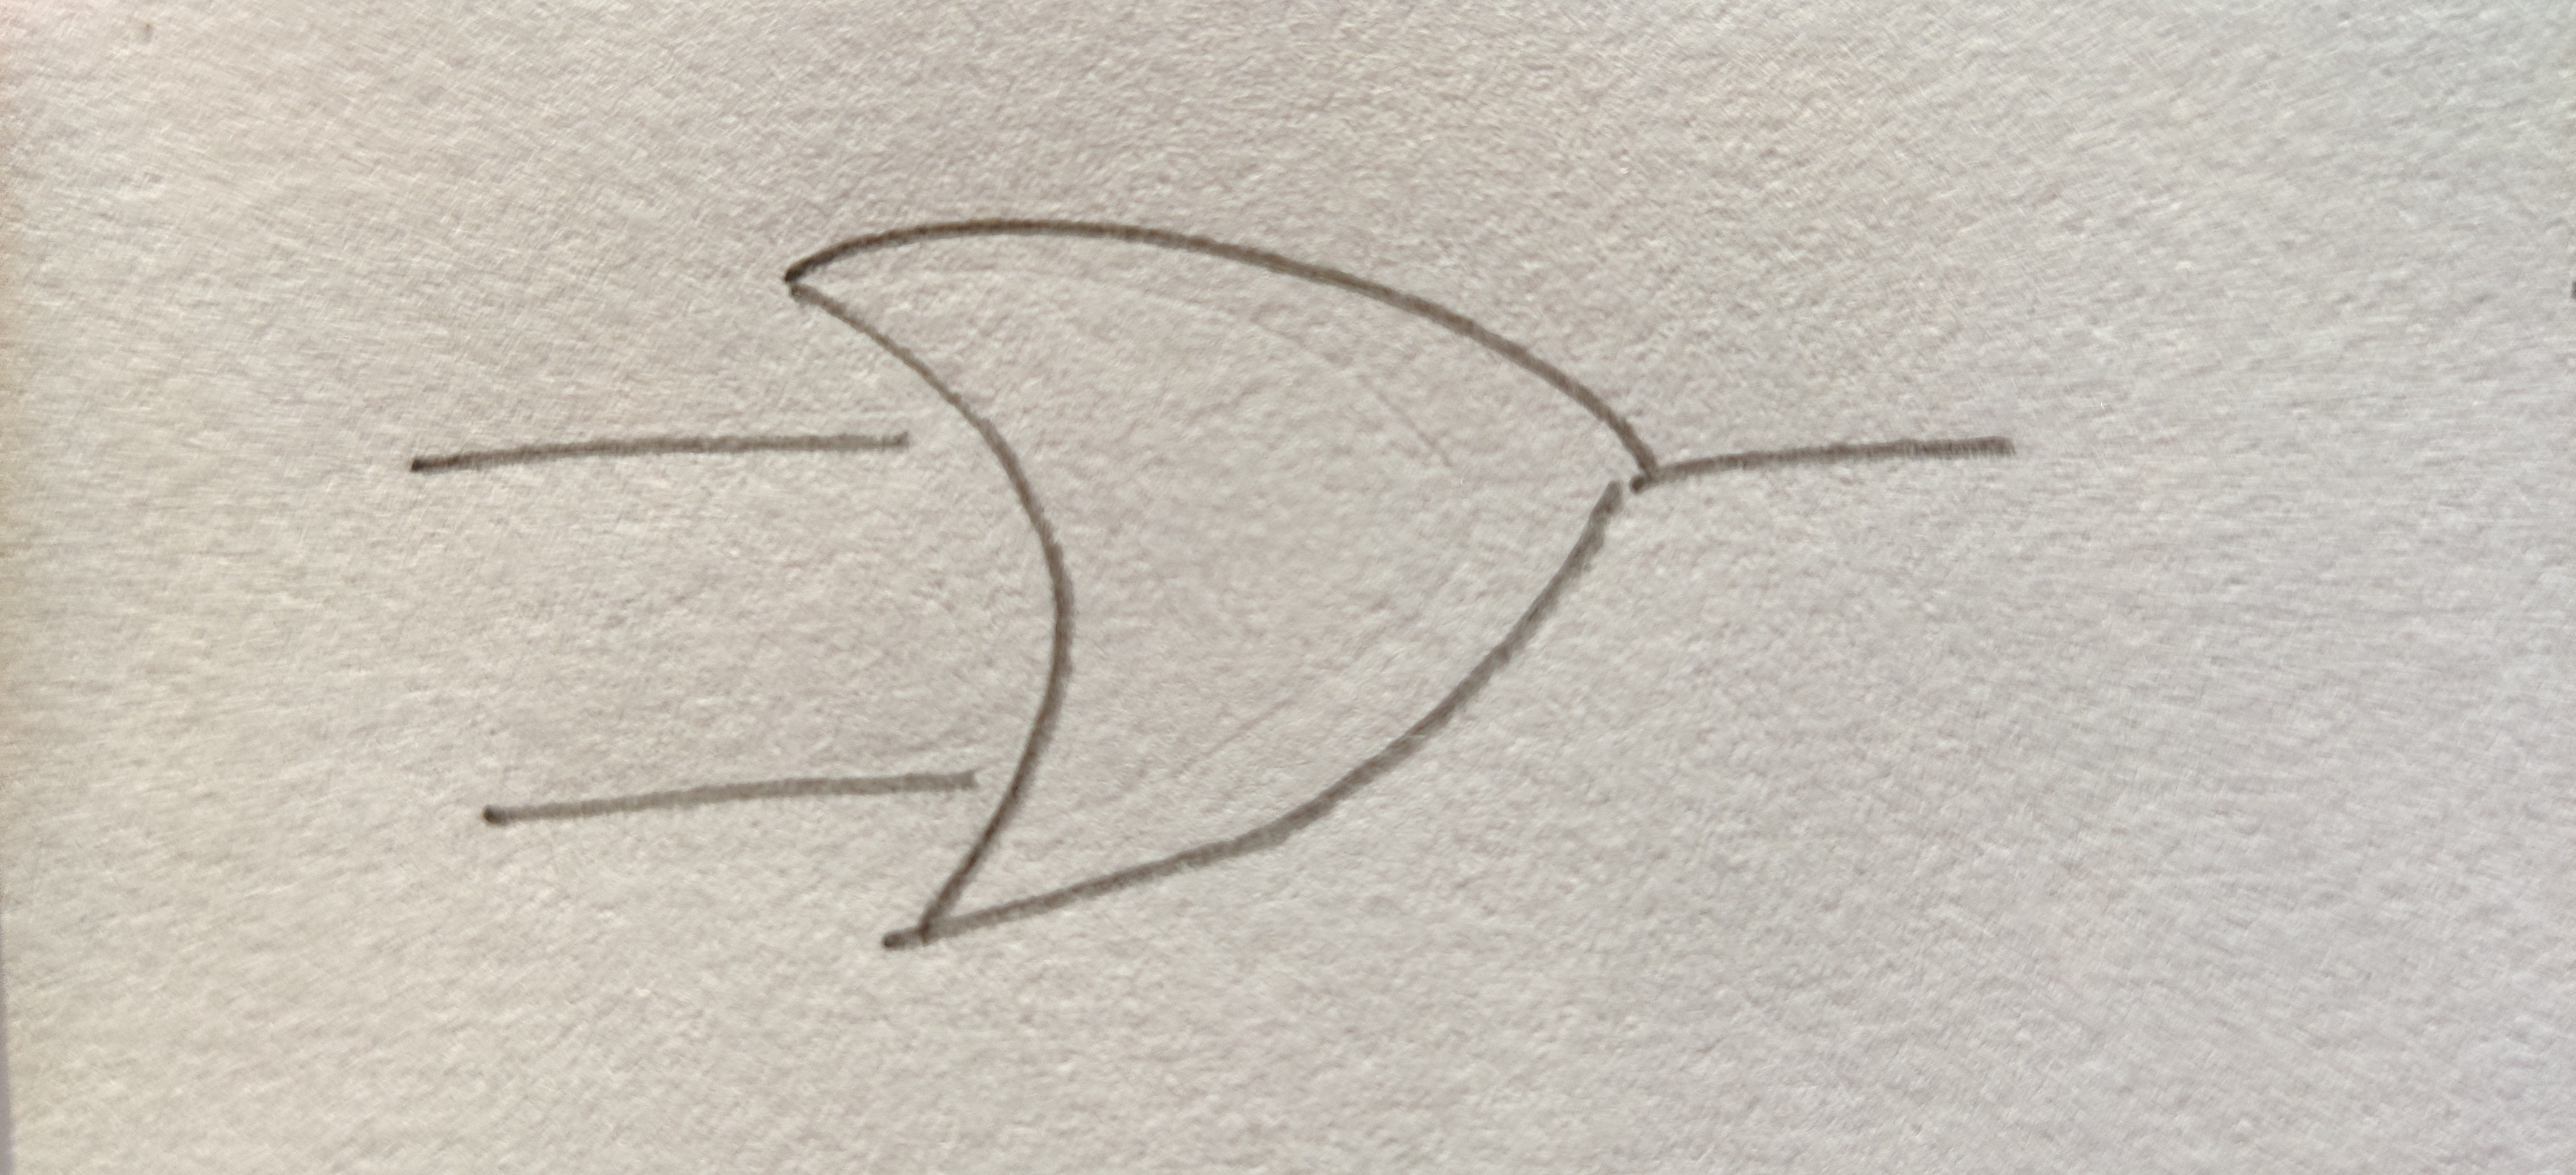or: (787, 219, 1649, 937)
